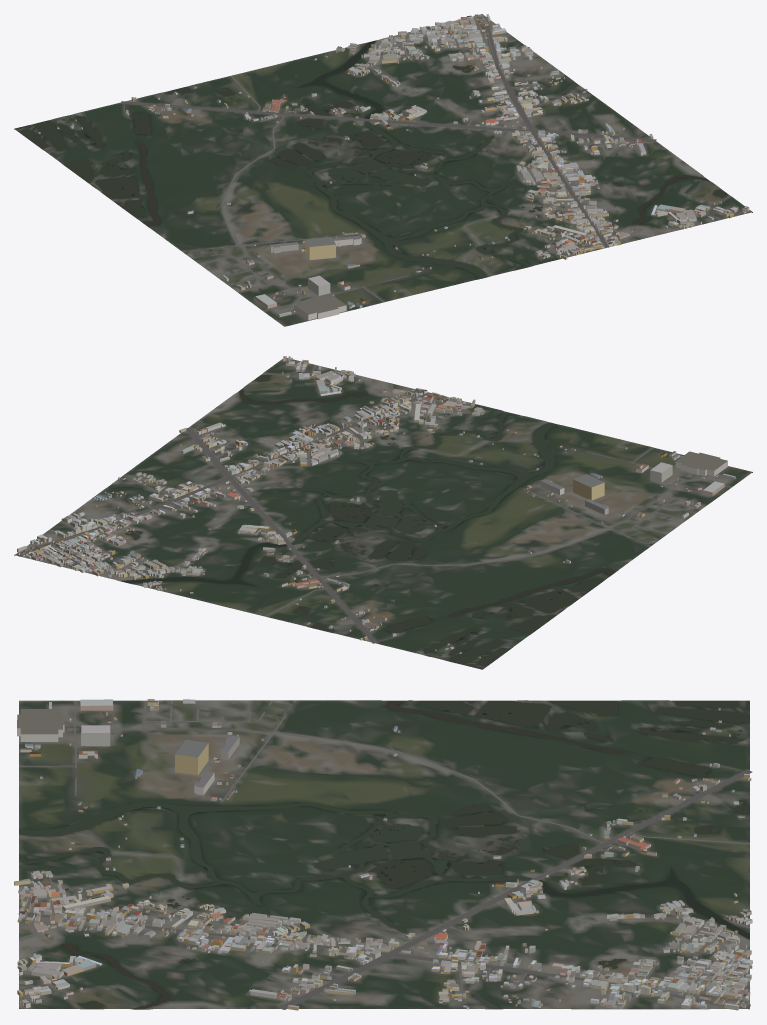
3 views of the same model, one above another, from view 1: azimuth 30°, elevation 25°; view 2: azimuth 150°, elevation 25°; view 3: azimuth 270°, elevation 25° (orthographic). The views are drawn at different scales.
Parts seen in each view (by area): view 1: ground, buildings, water, roads; view 2: ground, buildings, water, roads; view 3: ground, buildings, water, roads.
Boxes of the visible parts, x1=… form: ground: x1=14, y1=15, x2=752, y2=326; buildings: x1=38, y1=14, x2=749, y2=320; water: x1=15, y1=40, x2=727, y2=278; roads: x1=121, y1=14, x2=741, y2=311; ground: x1=14, y1=358, x2=752, y2=669; buildings: x1=17, y1=356, x2=735, y2=658; water: x1=108, y1=375, x2=615, y2=669; roads: x1=14, y1=361, x2=731, y2=643; ground: x1=19, y1=700, x2=749, y2=1009; buildings: x1=14, y1=699, x2=752, y2=1010; water: x1=19, y1=700, x2=749, y2=1008; roads: x1=18, y1=700, x2=752, y2=1009.
Bounding box in the file's own units: 1407 × 41.54 × 1416.
